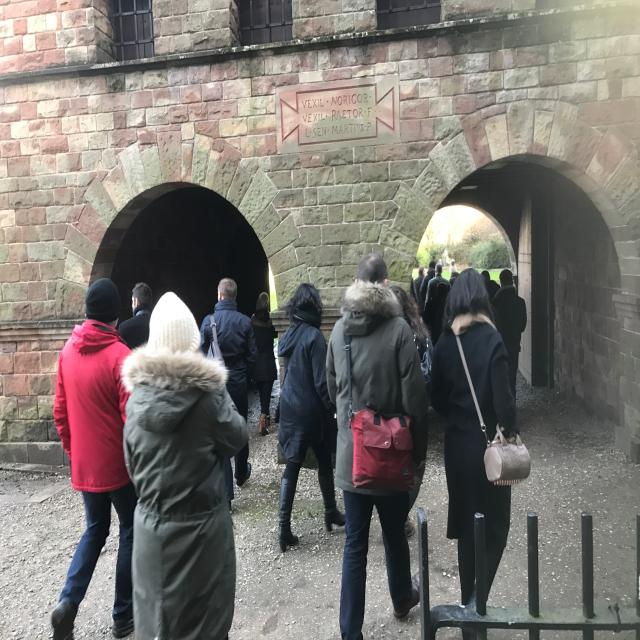body: (118, 284, 252, 640), (428, 263, 534, 640), (324, 254, 420, 640), (48, 274, 136, 640), (274, 278, 351, 556), (198, 277, 254, 515), (387, 285, 435, 540), (491, 268, 528, 412), (251, 292, 278, 435), (116, 282, 154, 350), (422, 280, 450, 348), (423, 263, 452, 312), (418, 260, 436, 304), (480, 270, 501, 302), (414, 266, 426, 294), (449, 259, 460, 286), (411, 275, 418, 309)
